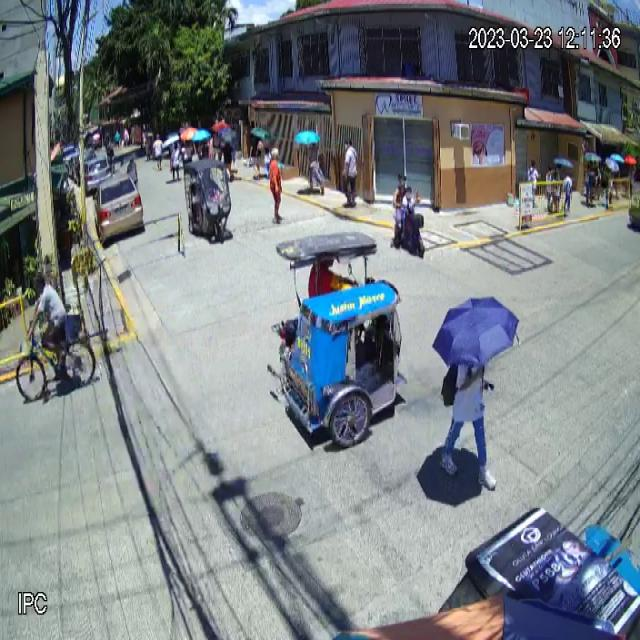Tricycle: (266, 230, 408, 448)
